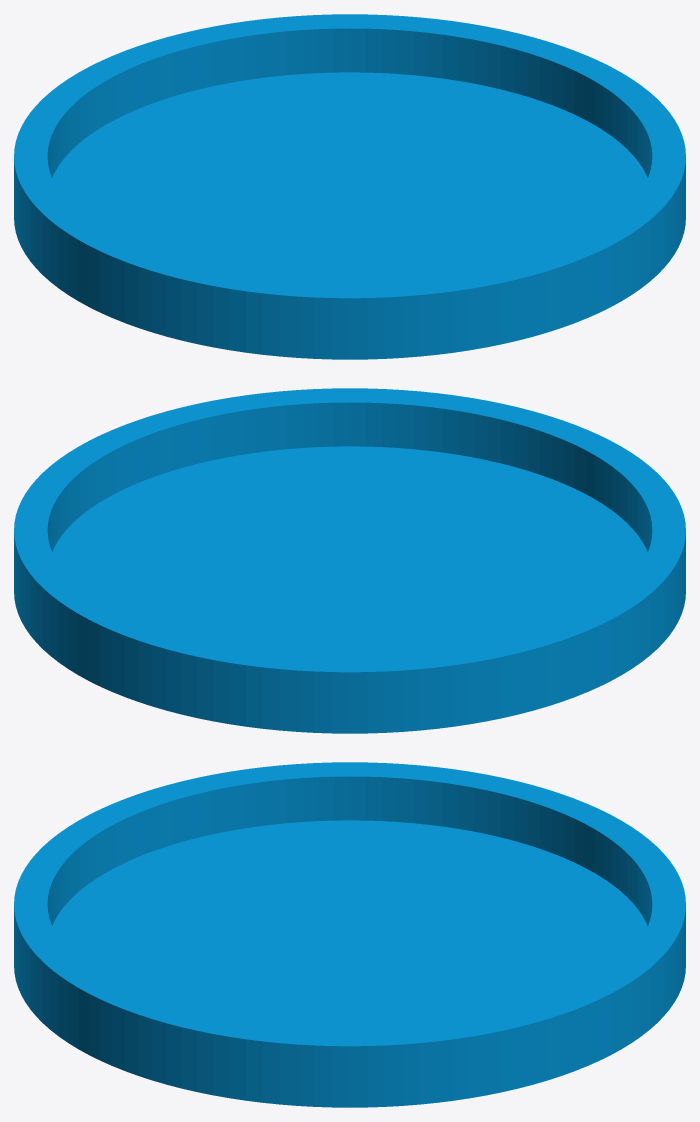
File: 3dbuilder actually.glb
The picture shows the model from 3 angles, top to bottom: view 1: azimuth 30°, elevation 25°; view 2: azimuth 150°, elevation 25°; view 3: azimuth 270°, elevation 25°; orthographic projection.
Size of the model in its own units: 0.1 by 0.0101 by 0.1.
